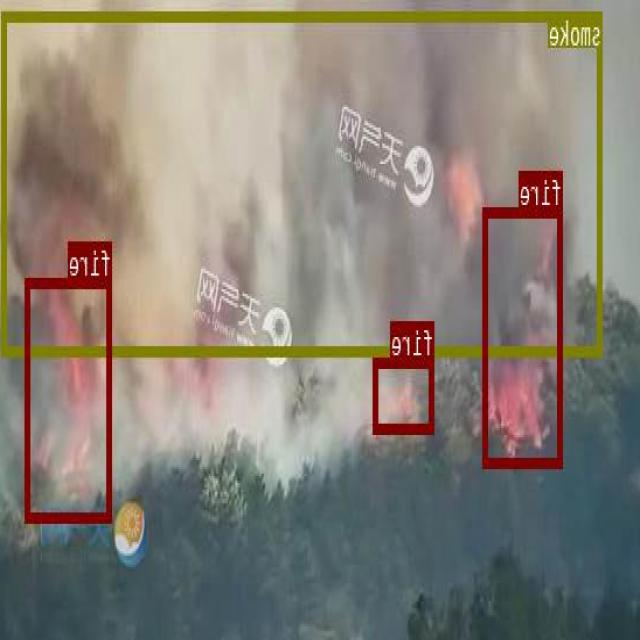fire: (27, 277, 112, 521), (484, 206, 564, 465), (375, 356, 434, 431)
smoke: (3, 10, 603, 355)
